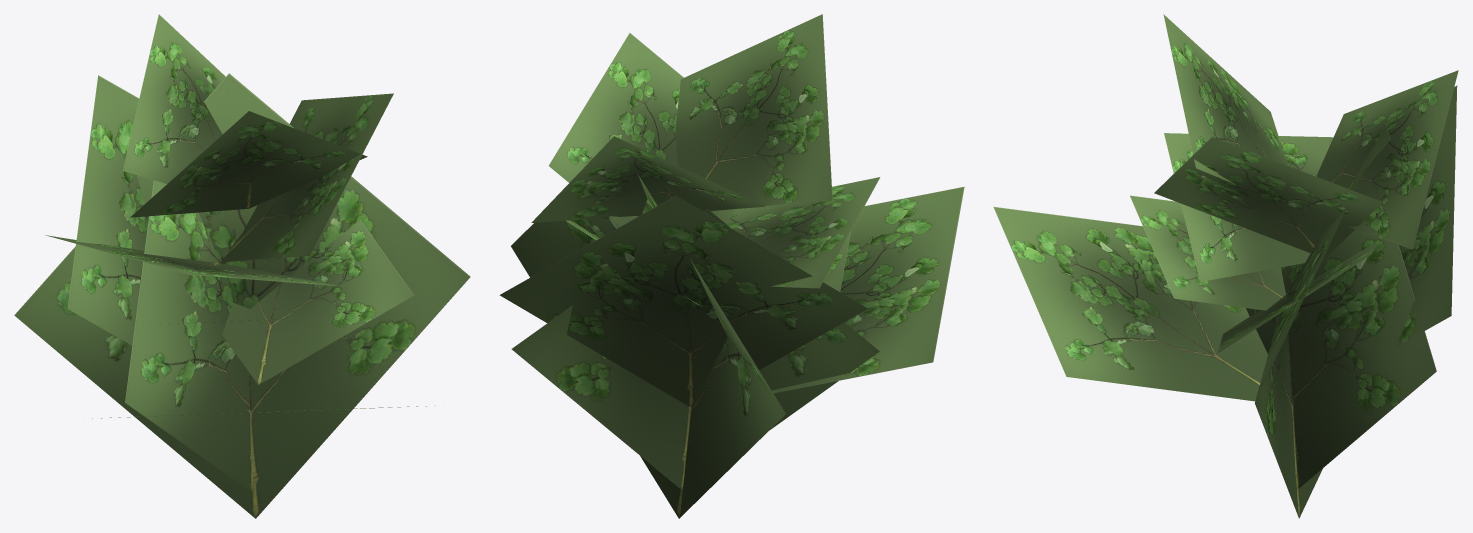
Rendered from bush05_lod02.FBX.
3 renders of one model, left to right at view 1: azimuth 30°, elevation 25°; view 2: azimuth 150°, elevation 25°; view 3: azimuth 270°, elevation 25°, orthographic.
Parts seen in each view (by area): view 1: bush05_lod02; view 2: bush05_lod02; view 3: bush05_lod02.
Boxes of the visible parts, left/top/right/bottom form: bush05_lod02: left=14, top=14, right=470, bottom=518; bush05_lod02: left=499, top=14, right=964, bottom=518; bush05_lod02: left=993, top=14, right=1458, bottom=518.
Size of the model in its own units: 115 by 128 by 115.
Materials: 1 (1 with a texture image).
